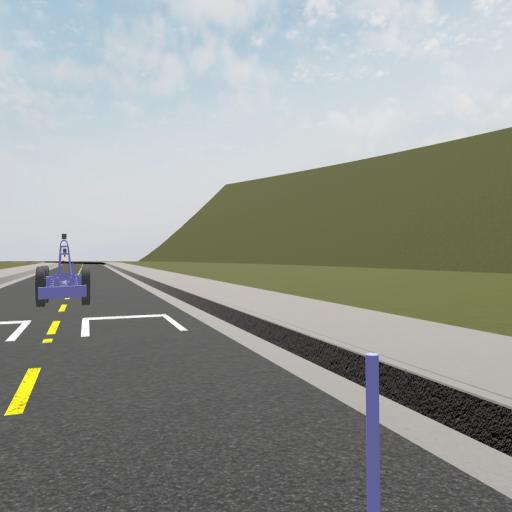ERP-42: (36, 236, 93, 307)
